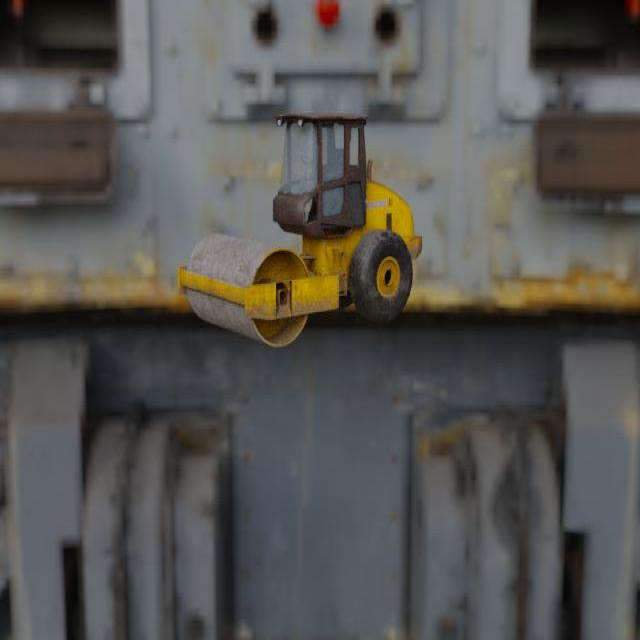Roller: (177, 112, 422, 347)
